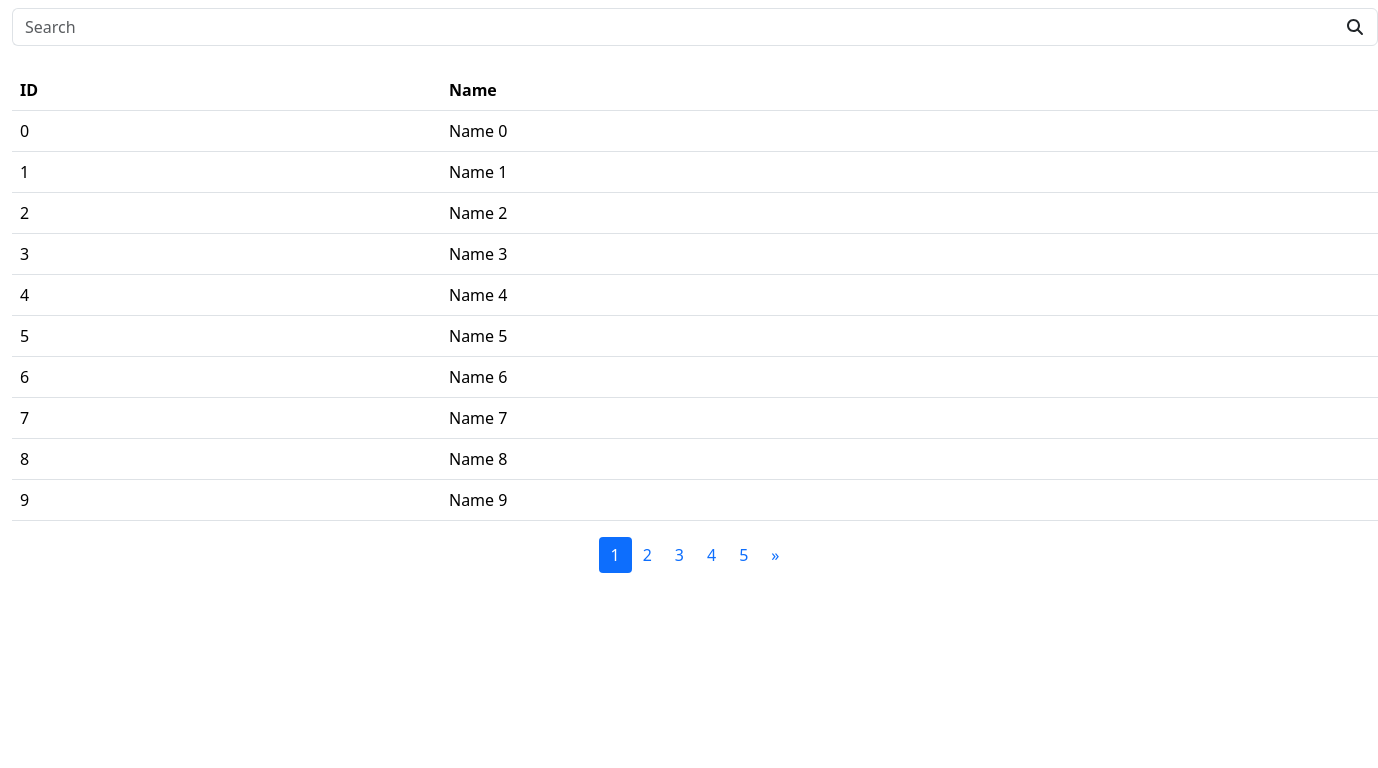
Test: can search data
Expected: the table is shown, [12,70,1377,521]
In the search field with placeholder "Search": (672, 27) [12,8,1333,46], type "Name 42"
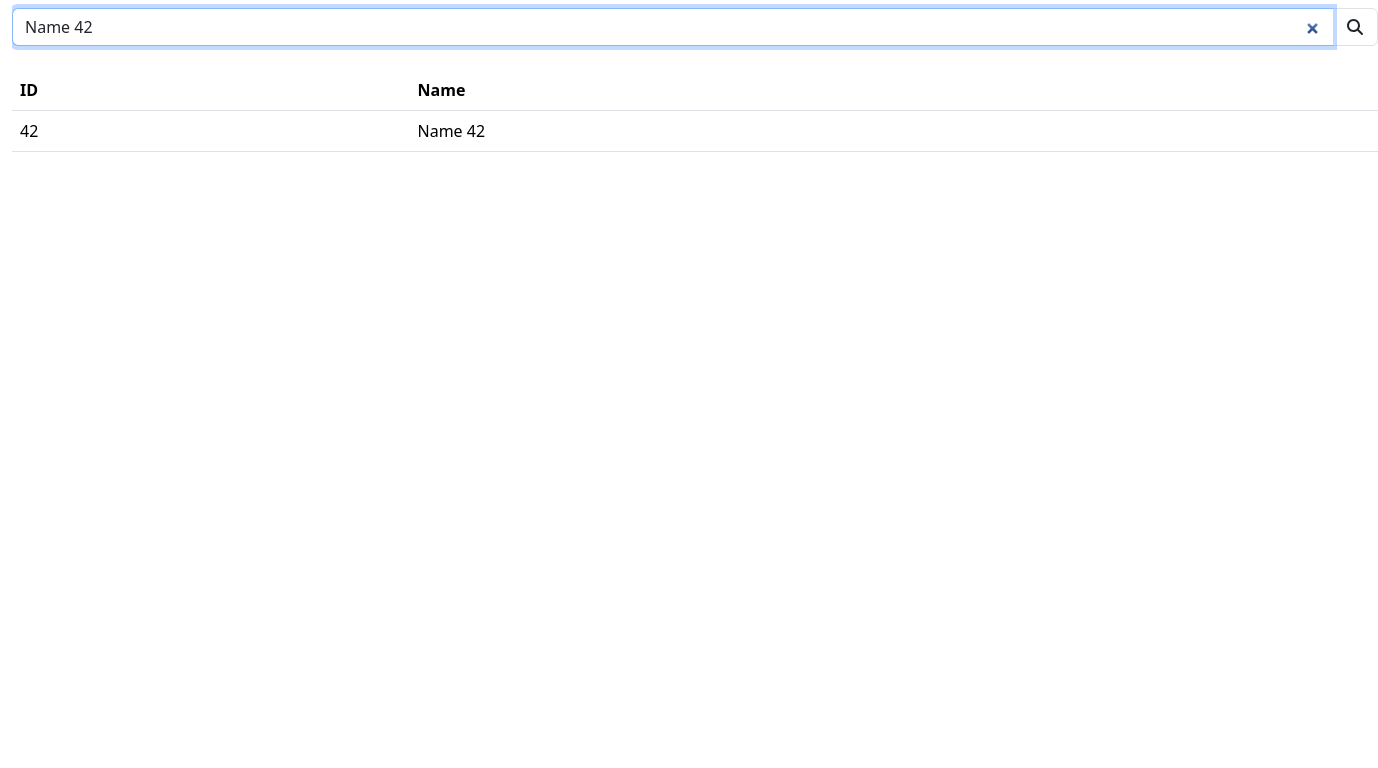
Expected: the row "42 Name 42" is shown, [12,110,1377,152]
